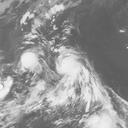cyclone: (53, 48, 93, 86), (18, 50, 46, 73)
